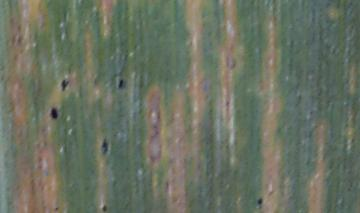tarspot: (101, 137, 110, 153), (49, 107, 59, 120), (100, 203, 109, 213), (117, 77, 125, 88), (61, 80, 69, 90), (257, 198, 263, 206), (54, 206, 60, 212)
